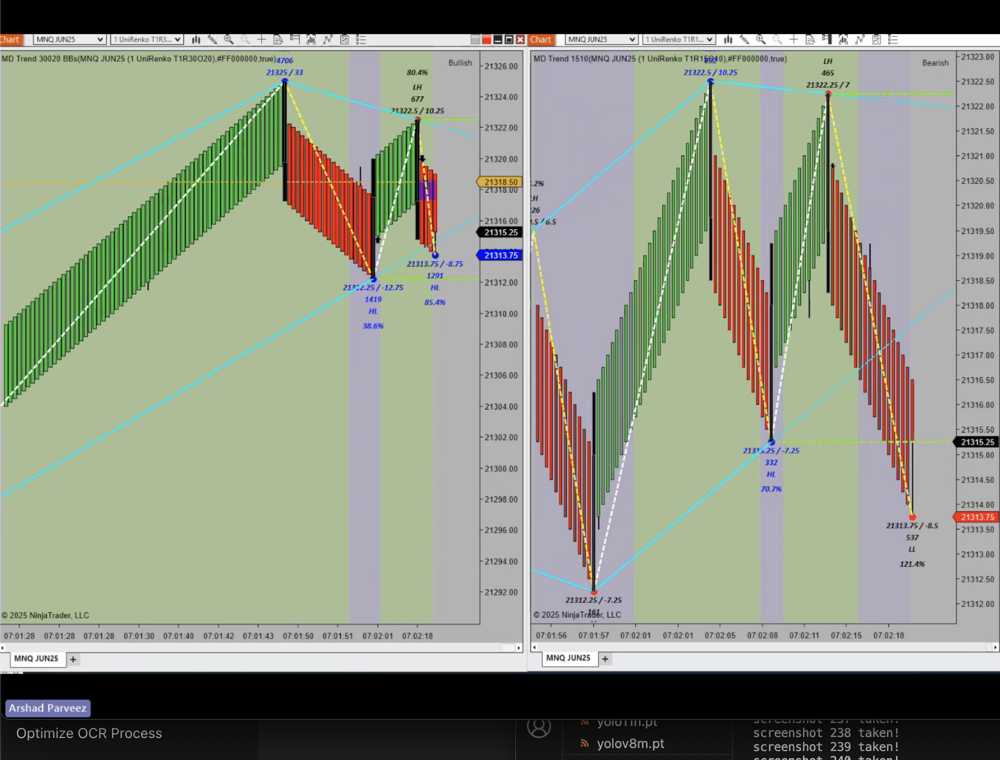HL: (360, 302, 386, 320), (423, 282, 447, 298), (761, 465, 782, 483)
LH: (403, 78, 433, 97), (816, 51, 844, 71)
LL: (902, 540, 928, 557)
